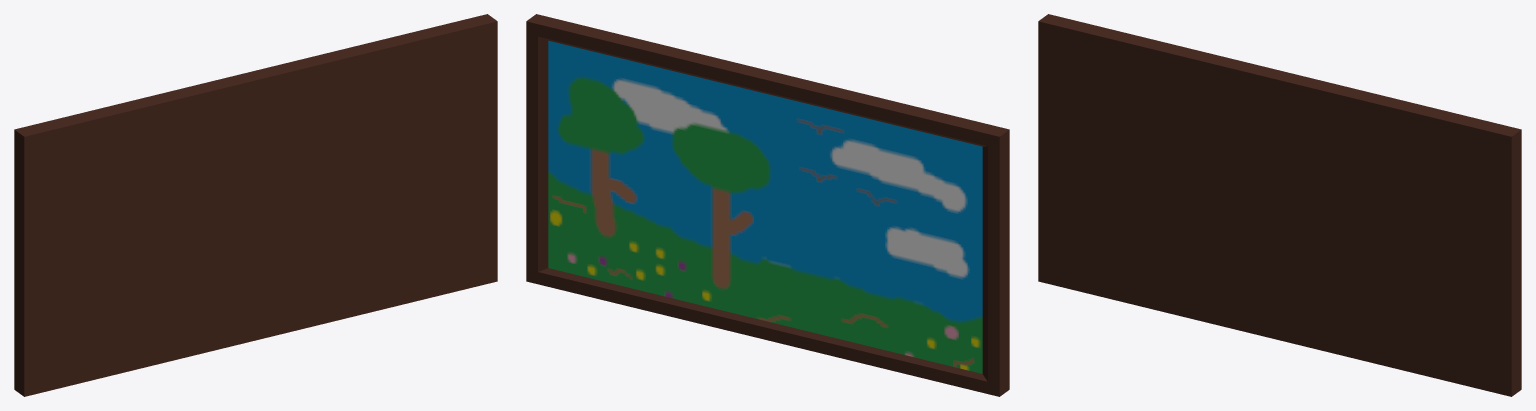
The model's file is Painting1.fbx.
3 renders of one model, left to right at view 1: azimuth 30°, elevation 25°; view 2: azimuth 150°, elevation 25°; view 3: azimuth 330°, elevation 25°, orthographic.
Parts seen in each view (by area): view 1: Cube.004; view 2: Cube.004; view 3: Cube.004.
Boxes of the visible parts, left/top/right/bottom form: Cube.004: left=14, top=14, right=497, bottom=396; Cube.004: left=526, top=14, right=1009, bottom=396; Cube.004: left=1038, top=14, right=1521, bottom=396.
Size of the model in its own units: 436 by 229 by 16.04.
Materials: 2 (1 with a texture image).
